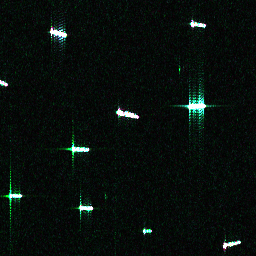ship: (113, 106, 142, 122), (47, 25, 69, 40), (221, 237, 243, 251), (188, 19, 208, 29), (70, 144, 90, 154), (186, 102, 207, 111), (77, 204, 94, 212), (8, 191, 23, 200), (1, 78, 10, 88), (142, 227, 153, 234)
